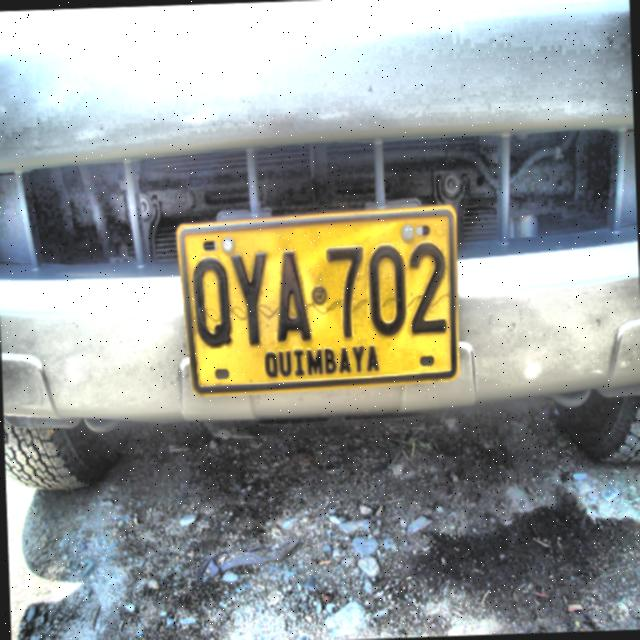0: (366, 241, 410, 338)
2: (406, 240, 449, 338)
7: (326, 242, 366, 340)
A: (272, 246, 313, 346)
Q: (188, 255, 238, 353)
Y: (230, 249, 271, 346)
